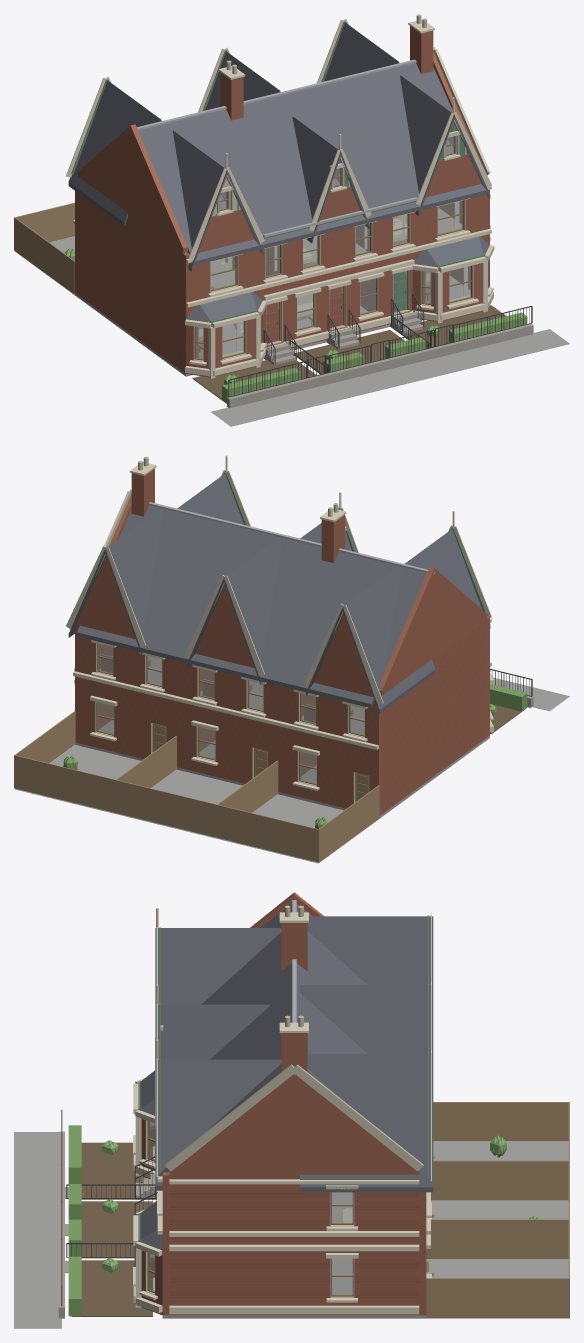
File: clay-queen-anne-rowhouse-trio-clay-v004.glb
The picture shows the model from 3 angles, top to bottom: view 1: azimuth 30°, elevation 25°; view 2: azimuth 150°, elevation 25°; view 3: azimuth 270°, elevation 25°; orthographic projection. The views are drawn at different scales.
Parts seen in each view (by area): view 1: CLAY_ROOF, CLAY_WALL, CLAY_PALE, CLAY_FOUNDATION, CLAY_GLASS, CLAY_STONE, CLAY_HARDWARE, CLAY_SOIL, CLAY_TIMBER, CLAY_PLANTING, CLAY_SAND, CLAY_TRIM (+6 smaller); view 2: CLAY_WALL, CLAY_ROOF, CLAY_TIMBER, CLAY_PALE, CLAY_FOUNDATION, CLAY_GLASS, CLAY_JOINT, CLAY_SAND, CLAY_TRIM, CLAY_LEAD, CLAY_PLANTING, CLAY_FLOOR; view 3: CLAY_ROOF, CLAY_WALL, CLAY_TIMBER, CLAY_FOUNDATION, CLAY_PALE, CLAY_SOIL, CLAY_JOINT, CLAY_SAND, CLAY_PLANTING, CLAY_STONE, CLAY_GLASS, CLAY_HARDWARE (+2 smaller).
Part boxes in pixels (left/top/right/bottom): CLAY_ROOF: left=68, top=22, right=490, bottom=322; CLAY_WALL: left=75, top=26, right=489, bottom=376; CLAY_PALE: left=66, top=18, right=494, bottom=378; CLAY_FOUNDATION: left=15, top=236, right=569, bottom=426; CLAY_GLASS: left=196, top=136, right=470, bottom=358; CLAY_STONE: left=227, top=312, right=533, bottom=408; CLAY_HARDWARE: left=225, top=258, right=532, bottom=397; CLAY_SOIL: left=192, top=305, right=505, bottom=403; CLAY_TIMBER: left=14, top=202, right=433, bottom=349; CLAY_PLANTING: left=65, top=248, right=527, bottom=403; CLAY_SAND: left=193, top=14, right=490, bottom=361; CLAY_TRIM: left=194, top=136, right=472, bottom=360; CLAY_WALL: left=75, top=468, right=489, bottom=815; CLAY_ROOF: left=68, top=472, right=490, bottom=713; CLAY_TIMBER: left=14, top=654, right=379, bottom=862; CLAY_PALE: left=66, top=455, right=494, bottom=790; CLAY_FOUNDATION: left=15, top=677, right=569, bottom=863; CLAY_GLASS: left=98, top=644, right=364, bottom=783; CLAY_JOINT: left=75, top=623, right=486, bottom=813; CLAY_SAND: left=95, top=456, right=369, bottom=802; CLAY_TRIM: left=96, top=643, right=364, bottom=801; CLAY_LEAD: left=148, top=502, right=435, bottom=574; CLAY_PLANTING: left=63, top=684, right=527, bottom=828; CLAY_FLOOR: left=100, top=656, right=364, bottom=734; CLAY_ROOF: left=140, top=904, right=433, bottom=1249; CLAY_WALL: left=140, top=892, right=426, bottom=1315; CLAY_TIMBER: left=342, top=1102, right=569, bottom=1317; CLAY_FOUNDATION: left=14, top=1132, right=569, bottom=1328; CLAY_PALE: left=133, top=908, right=431, bottom=1314; CLAY_SOIL: left=71, top=1142, right=152, bottom=1316; CLAY_JOINT: left=142, top=1120, right=418, bottom=1313; CLAY_SAND: left=145, top=905, right=423, bottom=1297; CLAY_PLANTING: left=68, top=1125, right=539, bottom=1316; CLAY_STONE: left=58, top=1131, right=434, bottom=1318; CLAY_GLASS: left=149, top=1122, right=352, bottom=1294; CLAY_HARDWARE: left=61, top=1109, right=157, bottom=1306.
Size of the model in its own units: 19.4 by 13.55 by 23.2.
